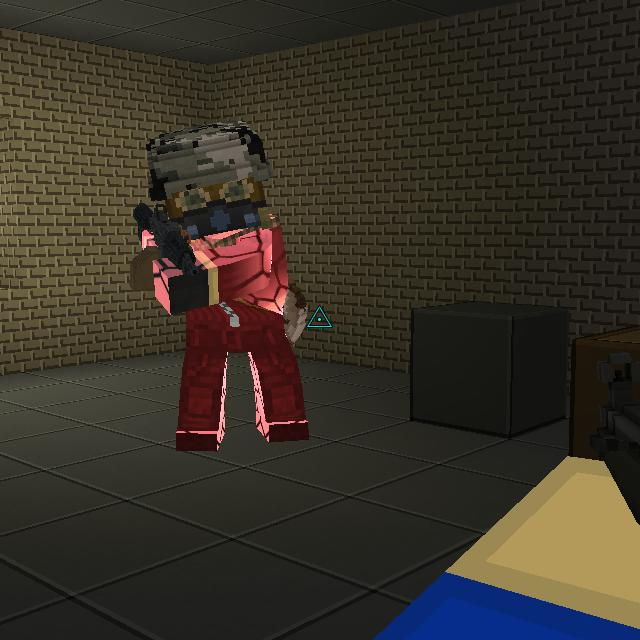enemy: (113, 108, 317, 458)
